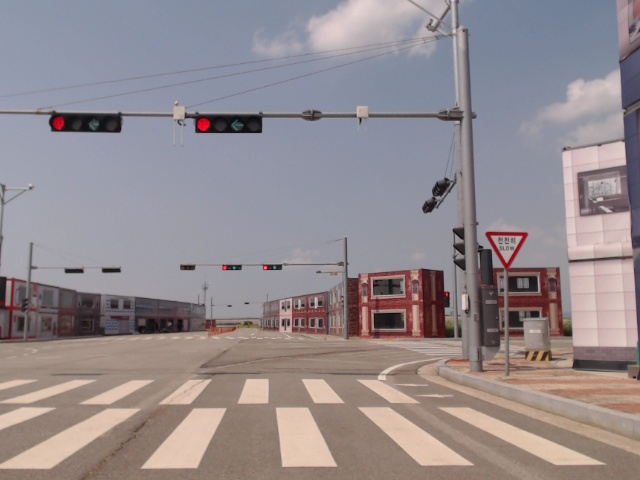left_green_4: (50, 113, 120, 132), (195, 117, 262, 134), (222, 265, 242, 270), (263, 265, 282, 270)
